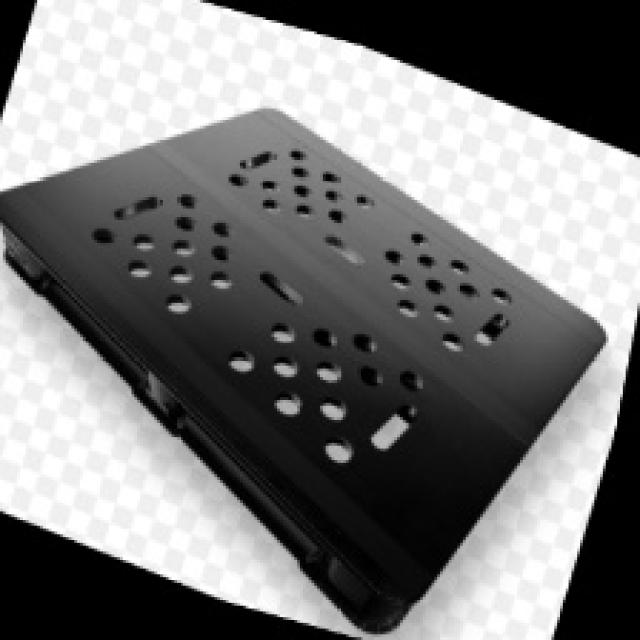igps: (0, 99, 611, 634)
